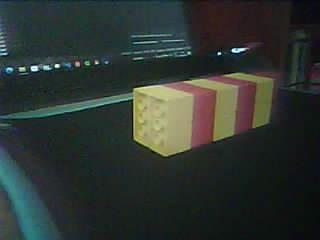lego: (132, 72, 280, 158)
